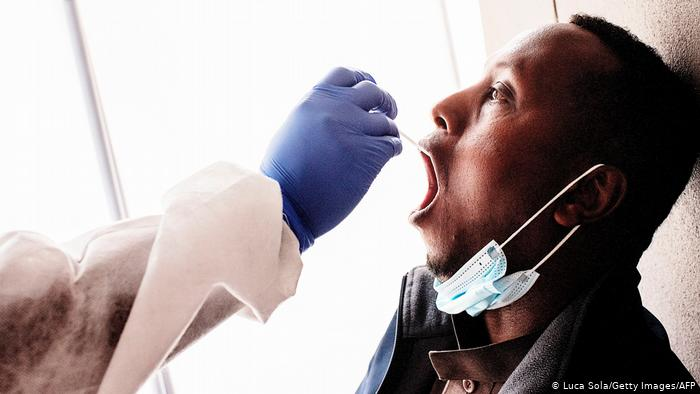with_incorrect_mask: (412, 84, 621, 325)
